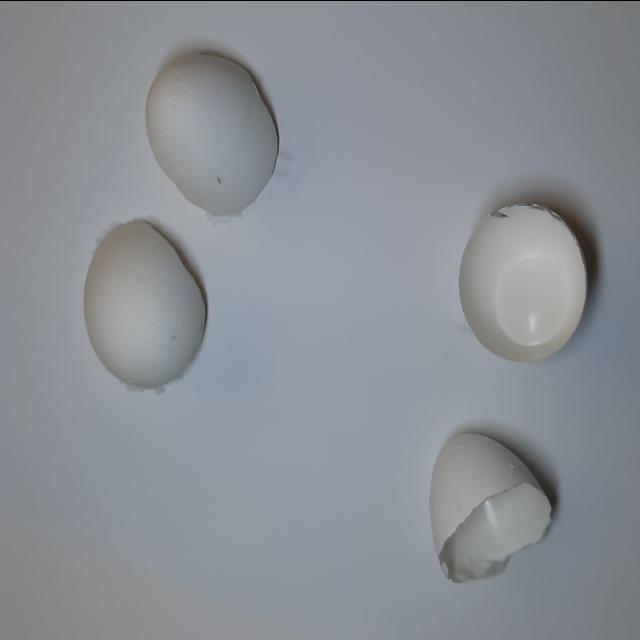egg shell: (404, 398, 569, 604), (454, 195, 604, 369), (139, 44, 283, 222), (78, 213, 210, 399)
